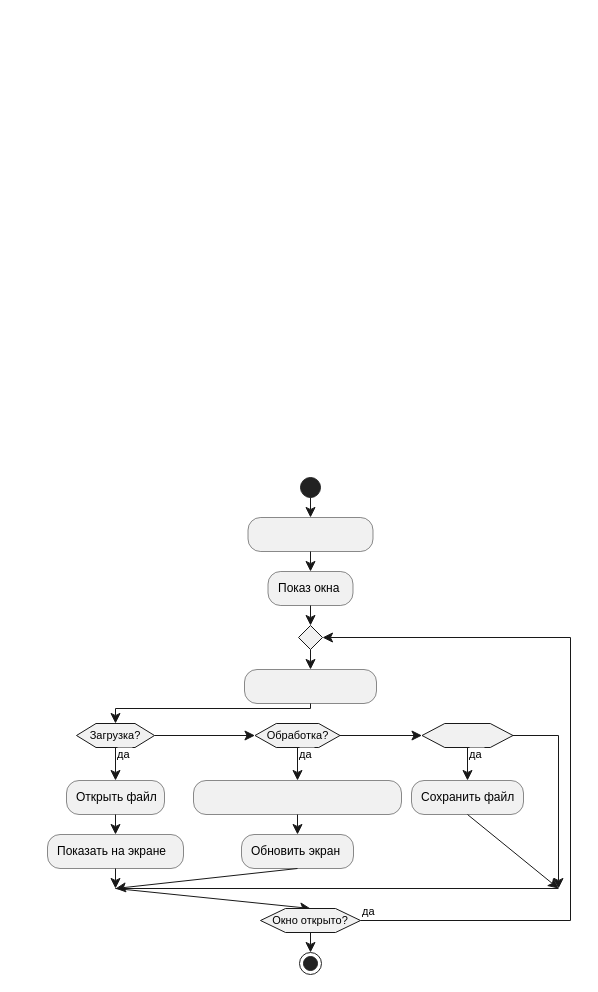
The diagram is 598 pixels wide and 992 high, and some of its shapes have lost their labels. Each missing label, with the box of its shape:
Выполнить Ч/Б, Блюр или Ресайз: (193, 780, 401, 814)
Запуск программы: (247, 517, 373, 551)
Ожидание действия: (244, 669, 376, 703)
Сохранение?: (421, 722, 513, 748)
